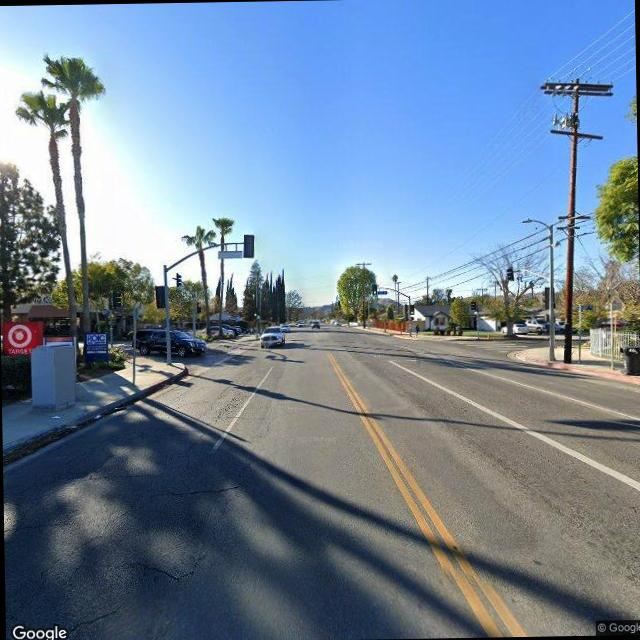crack: (4, 600, 126, 640), (88, 545, 202, 581), (52, 462, 162, 484), (127, 482, 245, 498), (4, 520, 72, 530)
